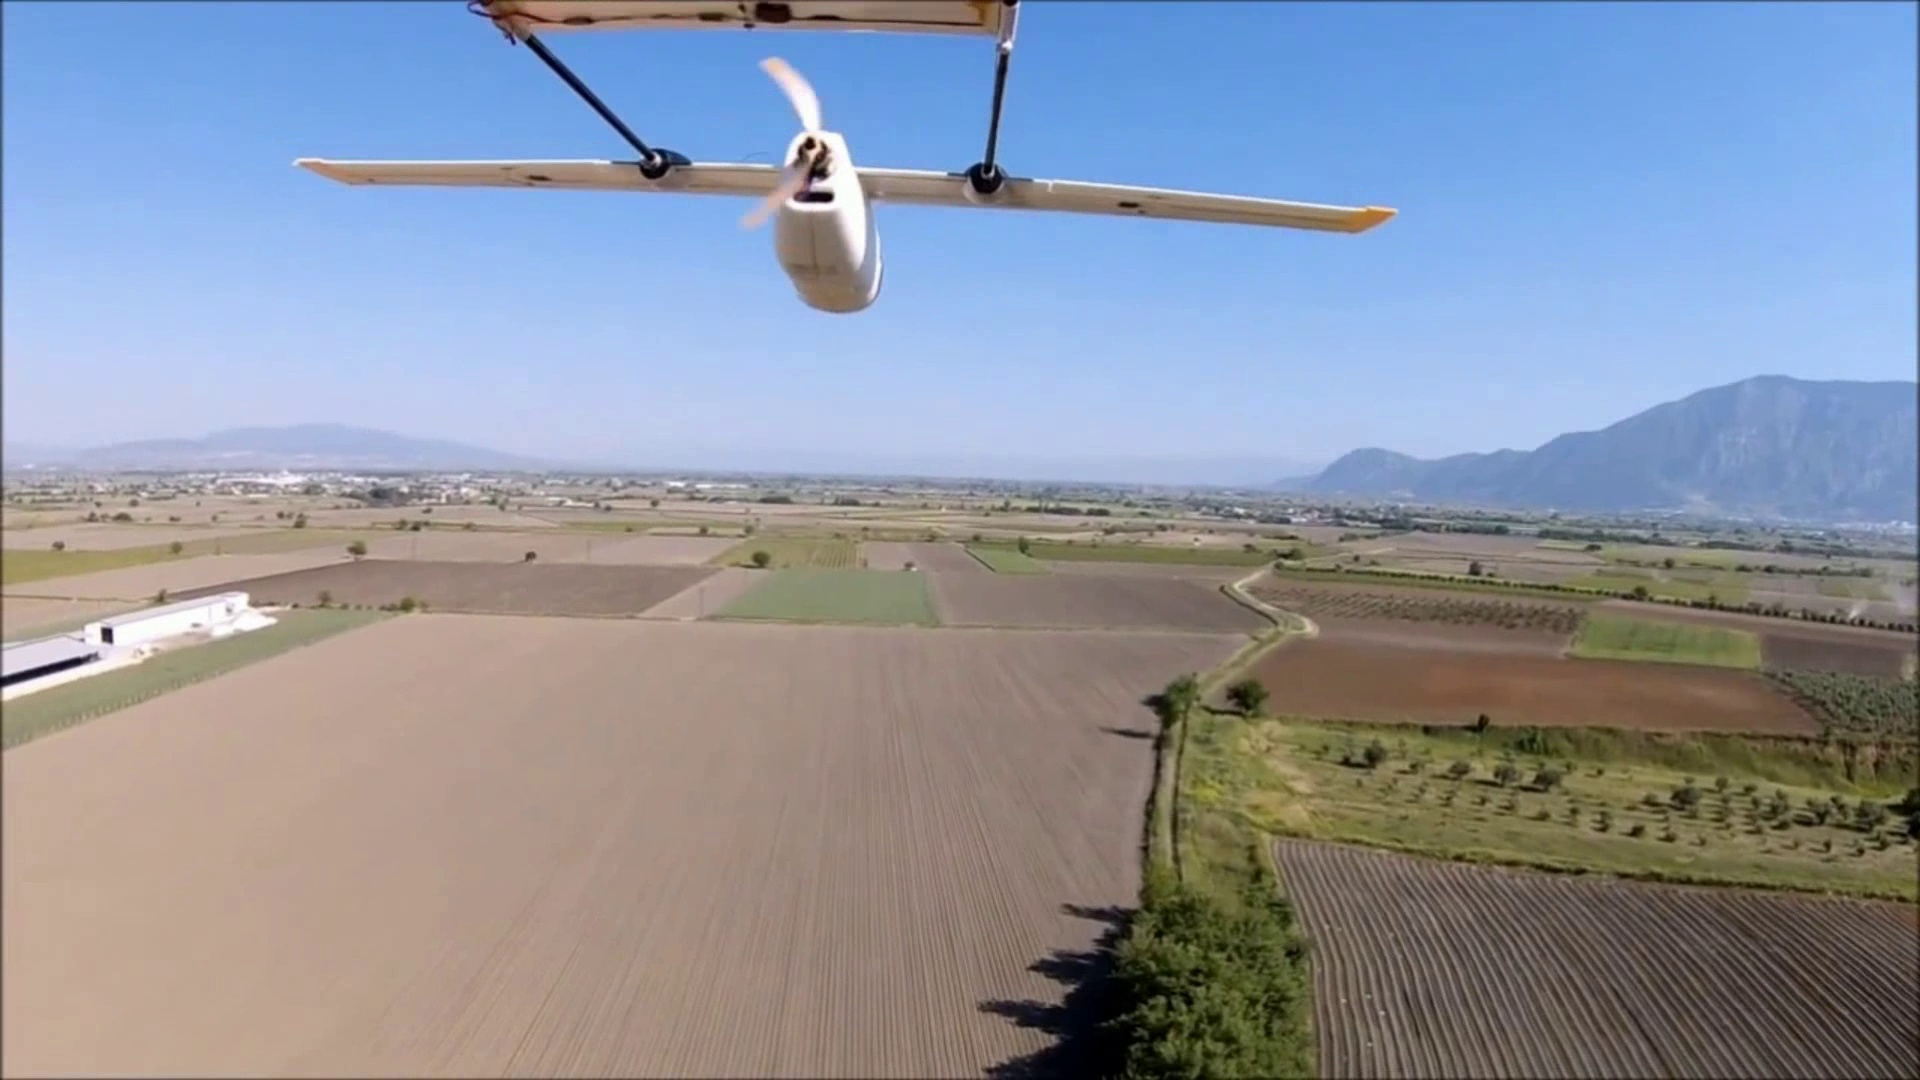airplane: (292, 5, 1395, 310)
